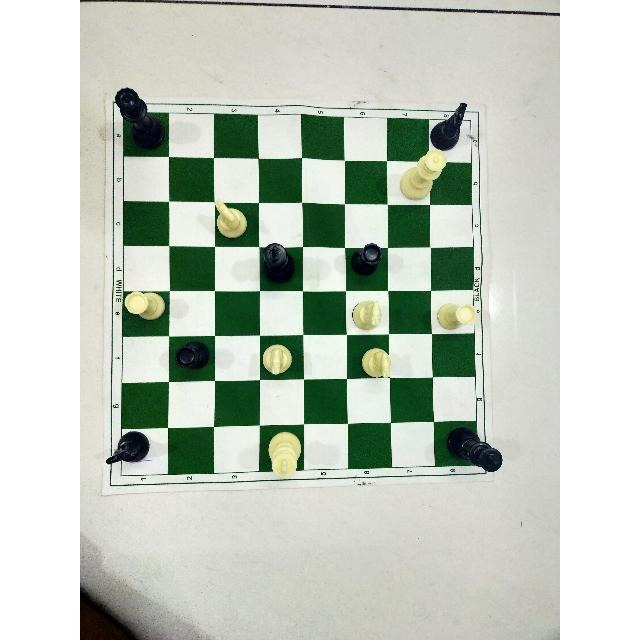black-king: (444, 425, 501, 480), (262, 242, 291, 281)
black-knight: (427, 98, 470, 150), (102, 427, 150, 471)
black-queen: (107, 84, 162, 156)
black-rook: (169, 339, 209, 376), (351, 241, 385, 277)
white-king: (261, 429, 304, 481)
white-knight: (209, 195, 249, 241), (356, 344, 391, 384), (349, 297, 385, 333), (259, 343, 292, 382)
white-queen: (401, 149, 454, 201)
white-rook: (435, 301, 479, 336), (122, 289, 162, 324)
